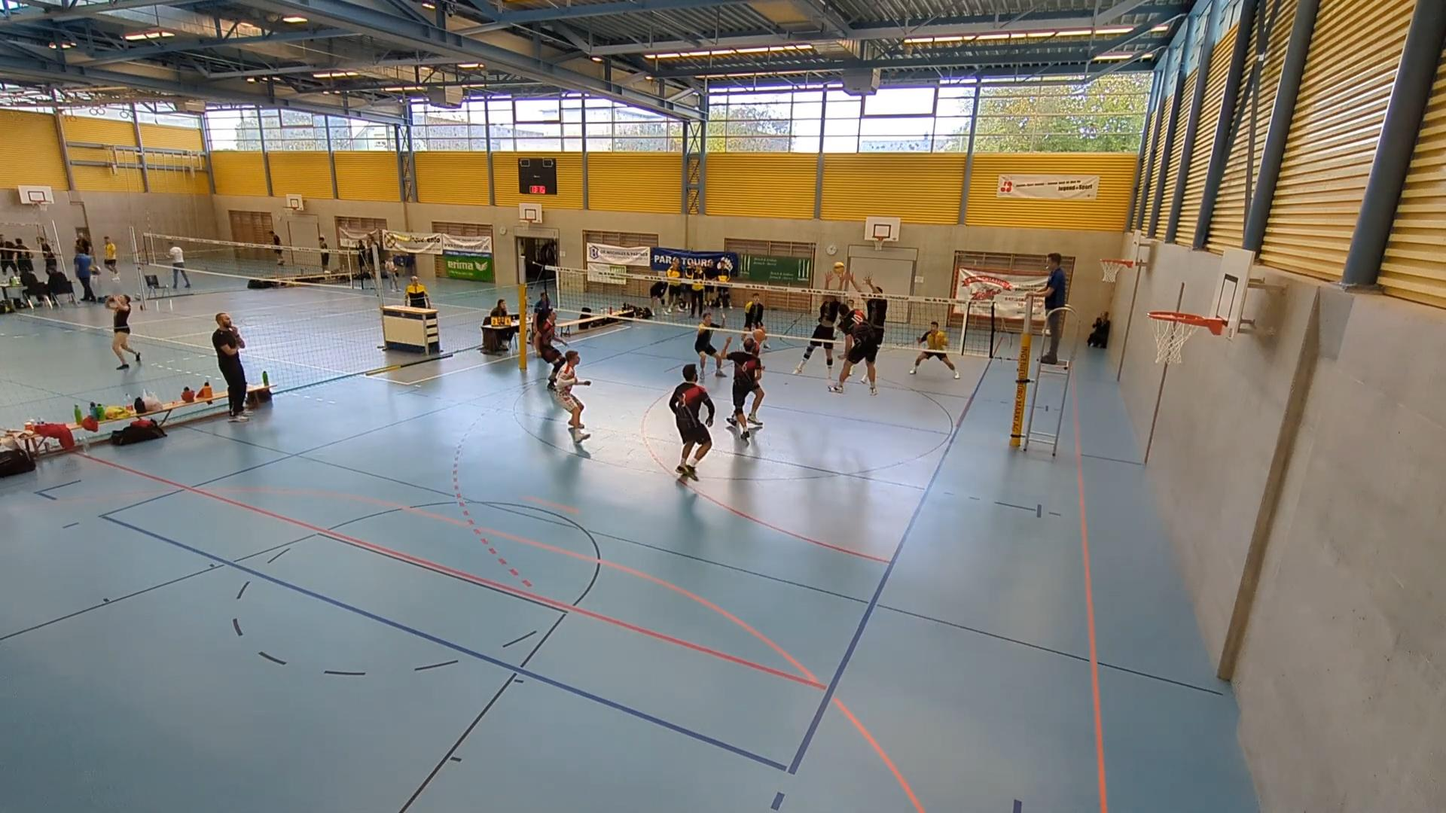attacco: (827, 273, 891, 397)
muro: (797, 253, 841, 385), (841, 256, 894, 361)
